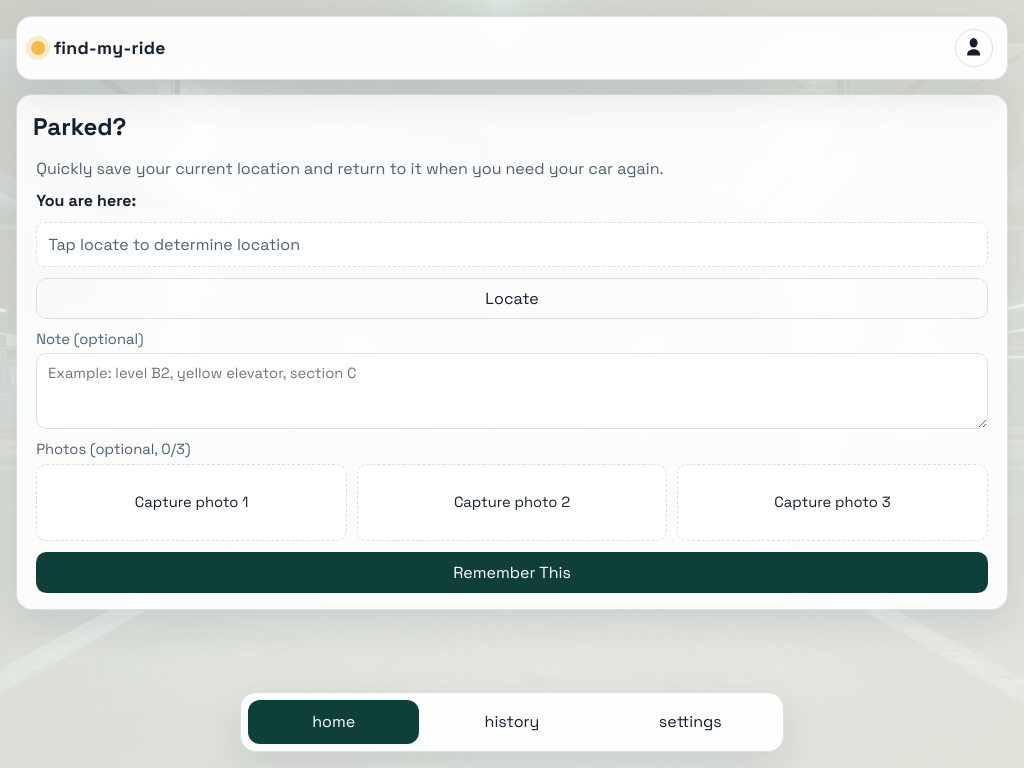
App tabs and settings › allows dismissing toast notifications manually
The image size is (1024, 768).
Expected: the heading "Parked?" is shown, [33,111,126,142]
Click the button "Remember This" at (512, 573), box [36,552,988,593]
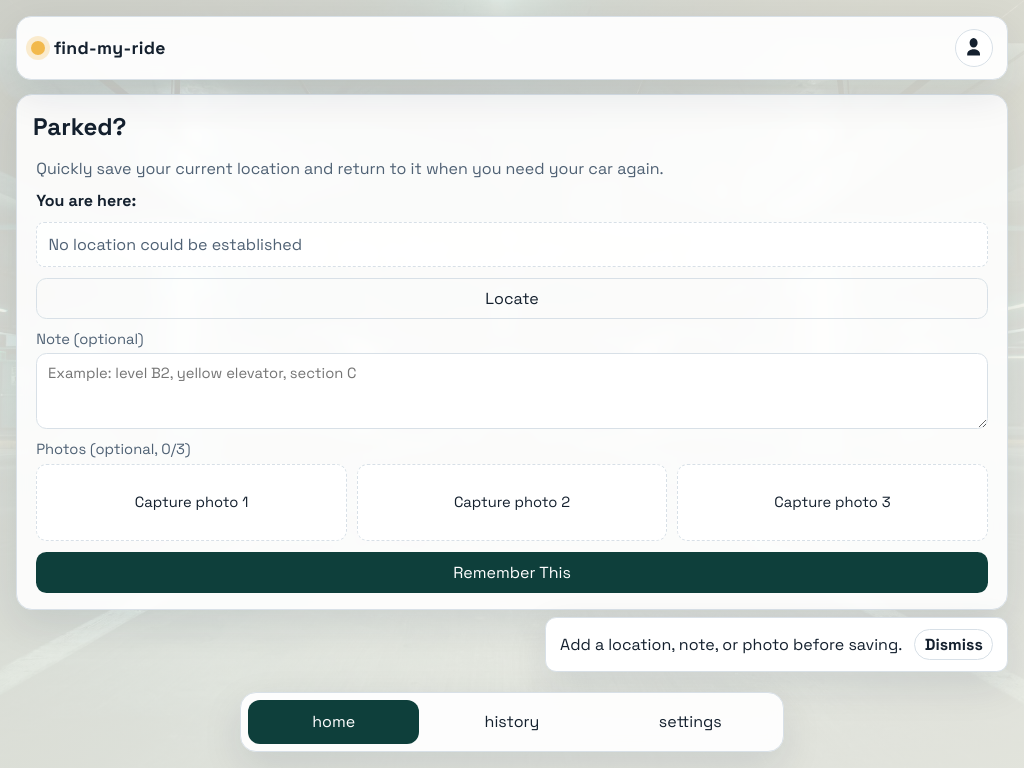
Result: the message shows "Add a location, note, or photo before saving." at [560,634,902,655]
Click the button with aria-label "Dismiss notification" at (954, 644), box [914,629,993,660]
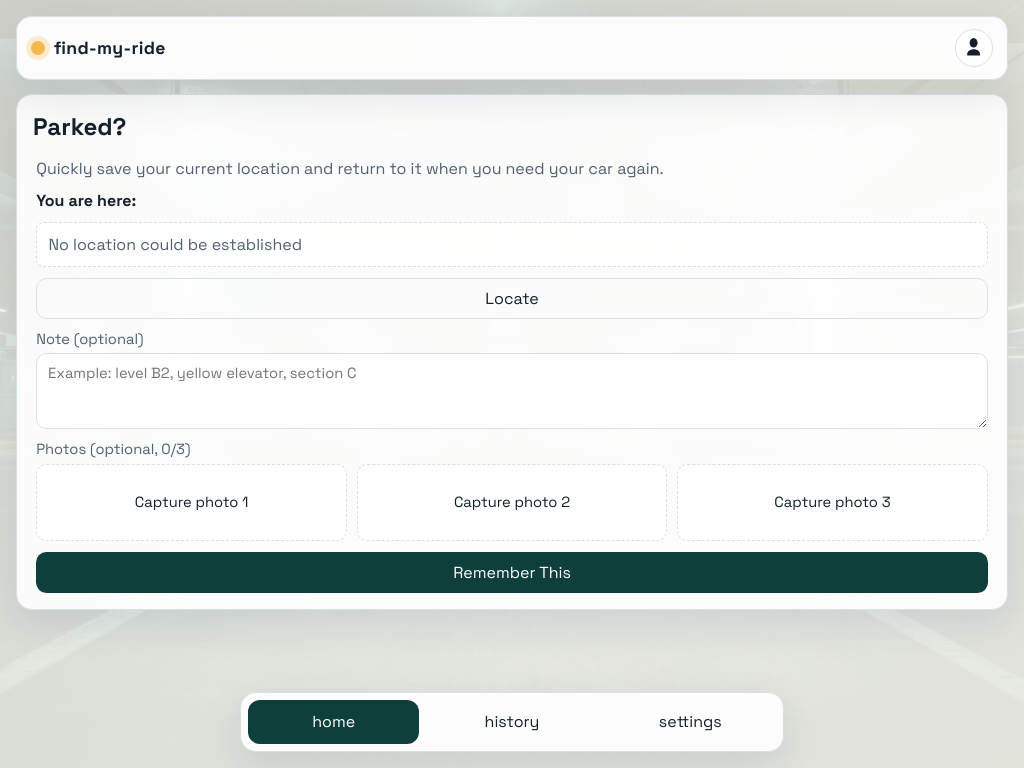
Result: the message "Add a location, note, or photo before saving. Dismiss" is gone
